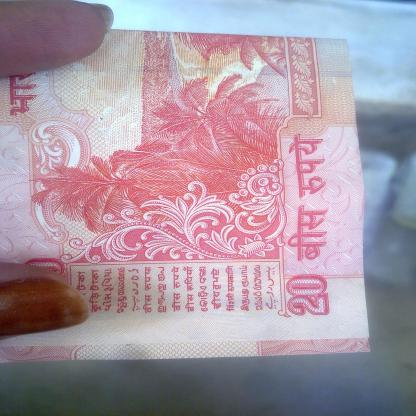Old20Back: (0, 26, 343, 338)
